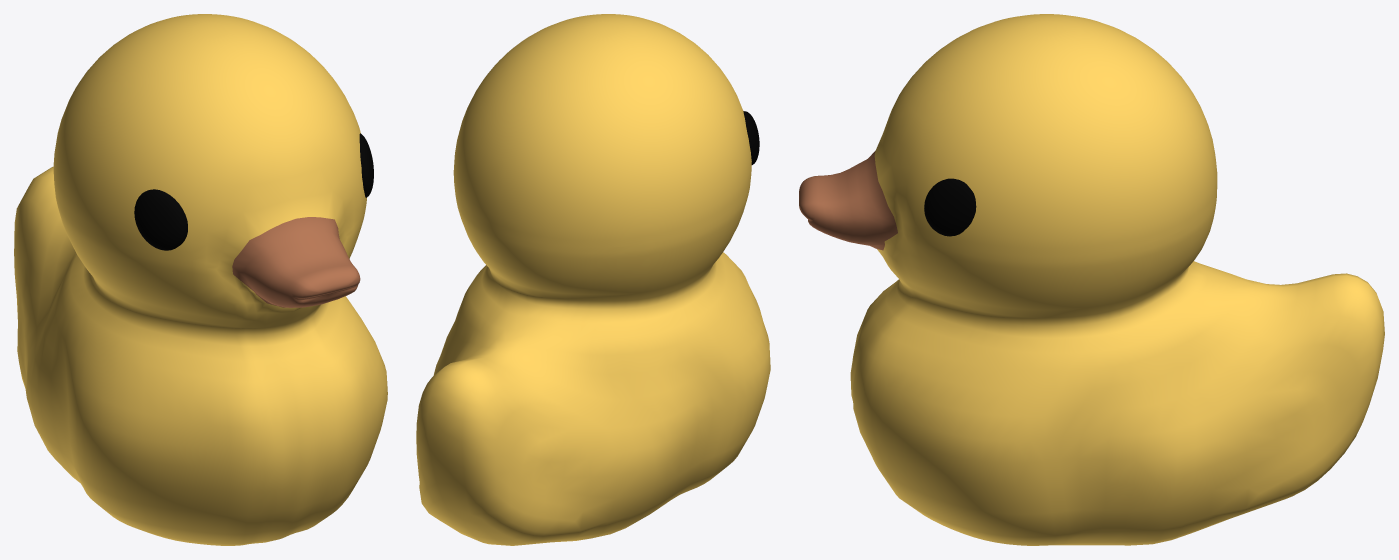
File: duck_new.gltf
3 renders of one model, left to right at view 1: azimuth 30°, elevation 25°; view 2: azimuth 150°, elevation 25°; view 3: azimuth 270°, elevation 25°, orthographic. The views are drawn at different scales.
Visible parts, largest first — view 1: duck, duck_eyes; view 2: duck, duck_eyes; view 3: duck, duck_eyes.
Part boxes in pixels (bbox=[...]): duck: bbox=[14, 14, 387, 545]; duck_eyes: bbox=[134, 133, 373, 250]; duck: bbox=[416, 14, 770, 545]; duck_eyes: bbox=[743, 111, 759, 164]; duck: bbox=[799, 14, 1384, 545]; duck_eyes: bbox=[924, 178, 976, 236].
Bounding box in the file's own units: 0.6129 × 0.9923 × 1.07.
